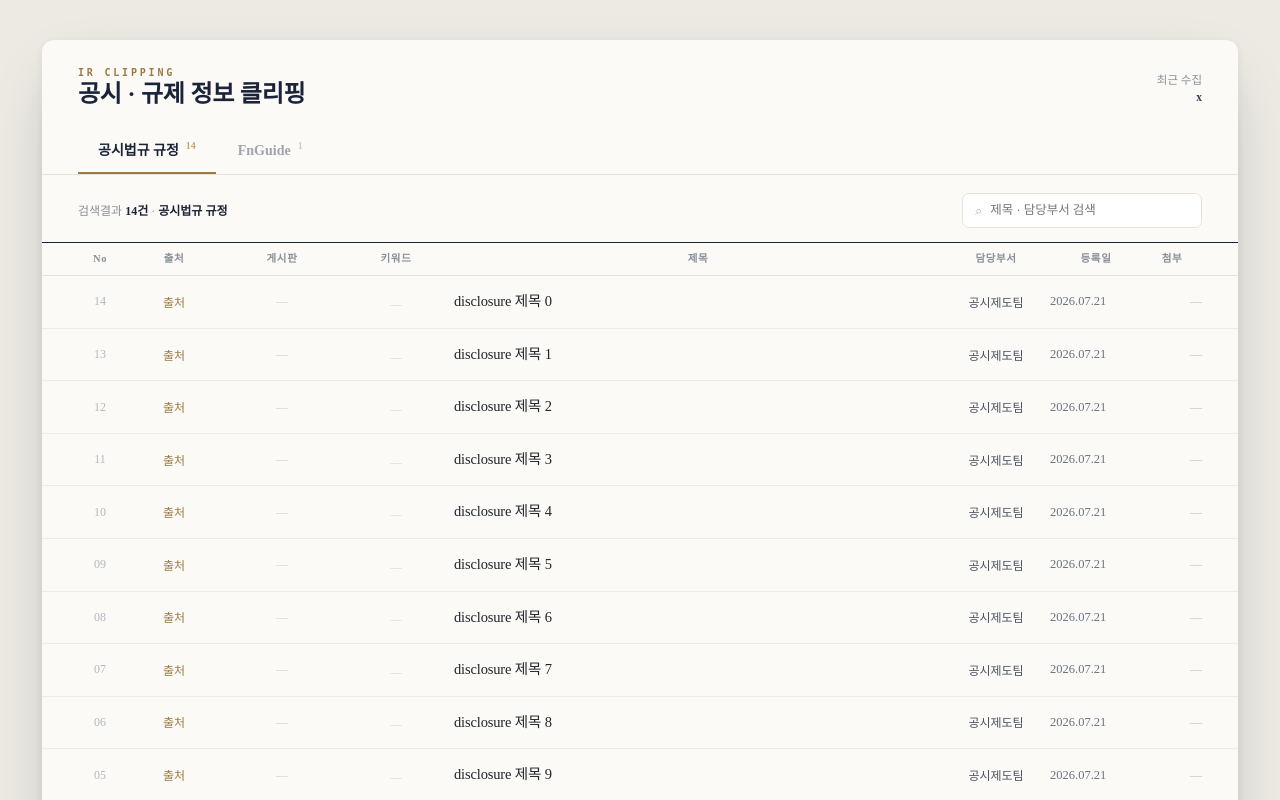
Board › opens and closes the detail modal on row click
Click the text "disclosure 제목 0" at (503, 301), box [454,293,552,309]
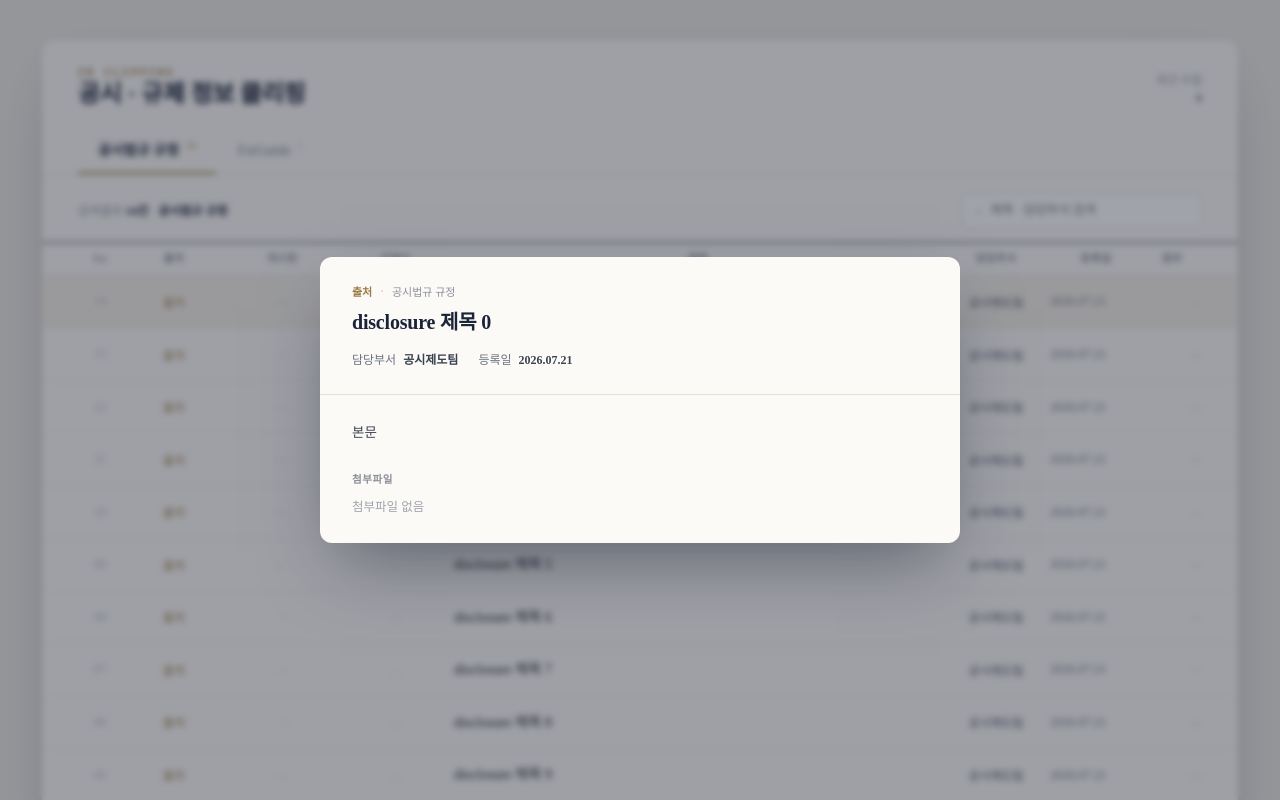
Check: the text "첨부파일 없음" is shown, box [352,500,424,514]
Press Escape
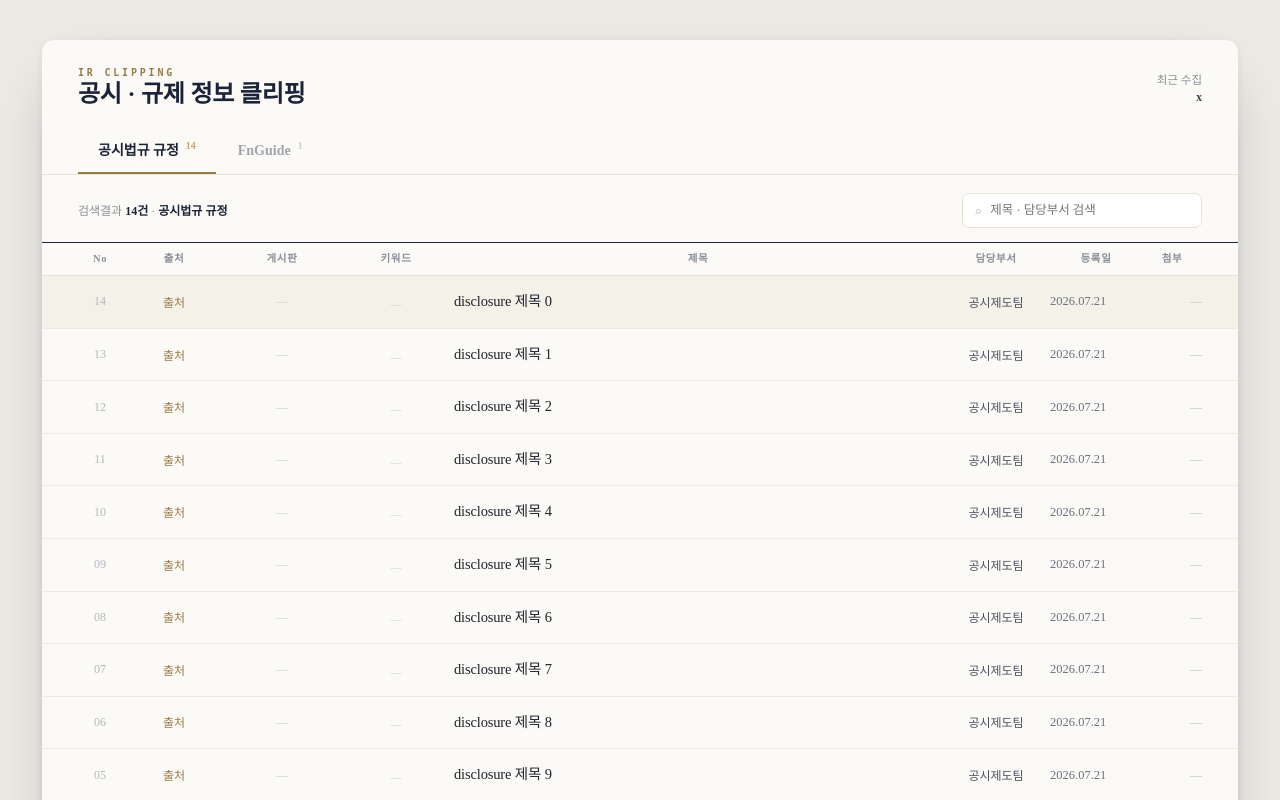
Check: the text "첨부파일" is gone
